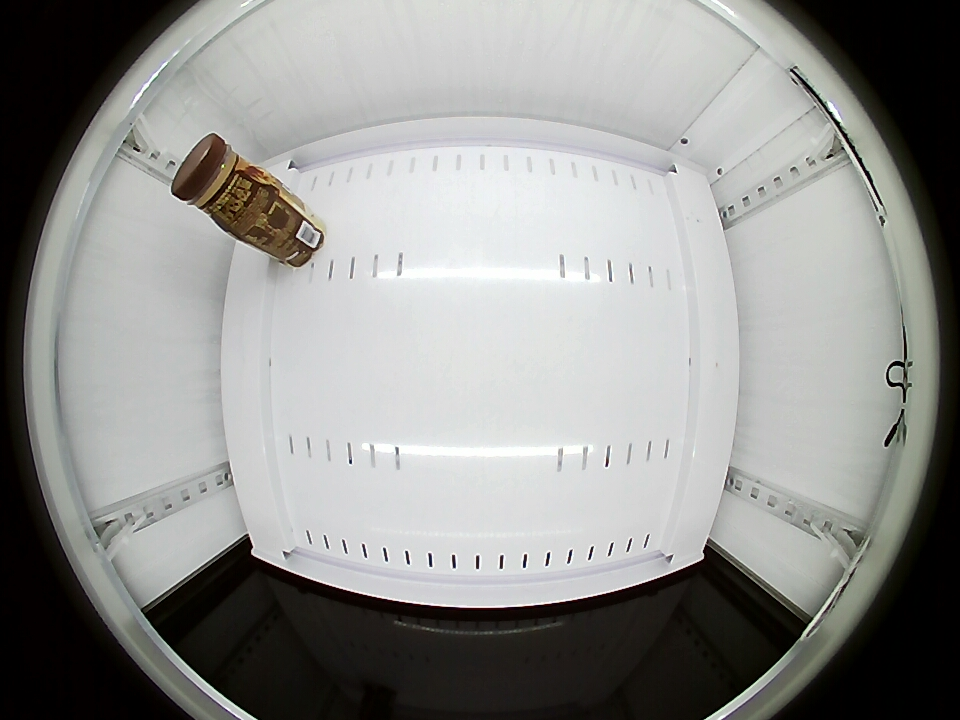lujikafei: (170, 134, 272, 233)
